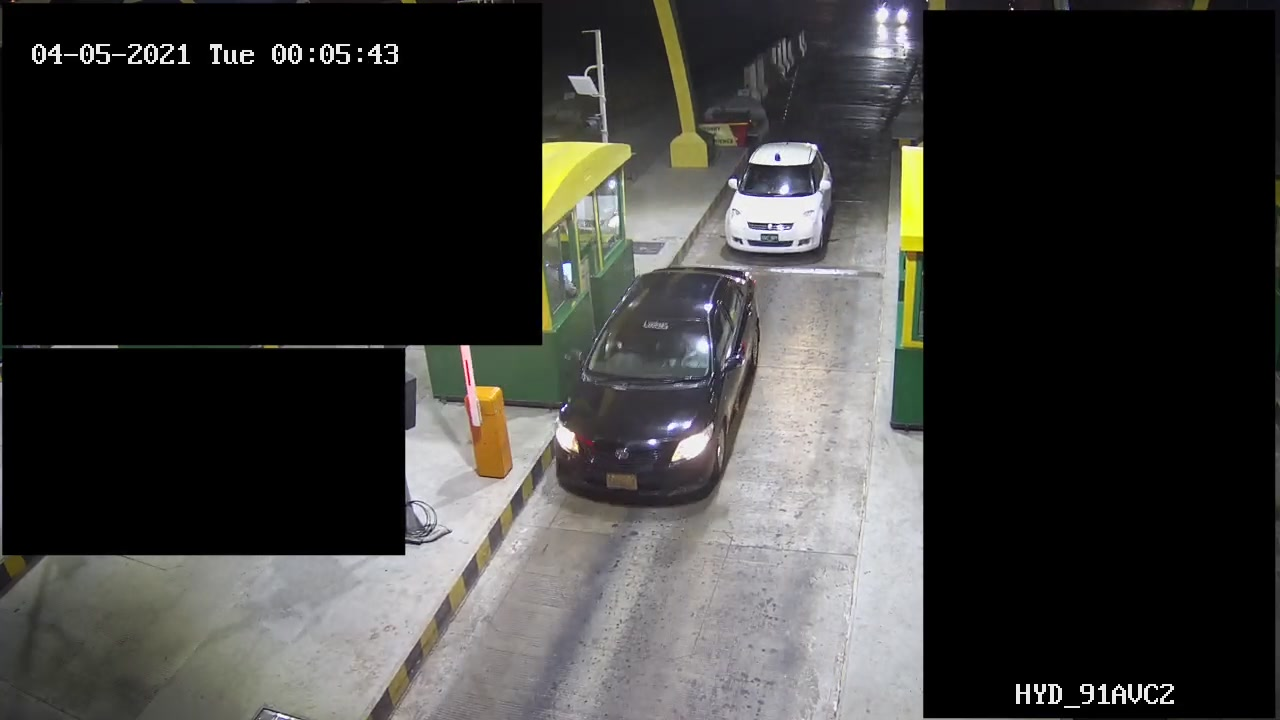F1: (539, 262, 771, 502), (720, 121, 839, 265)
